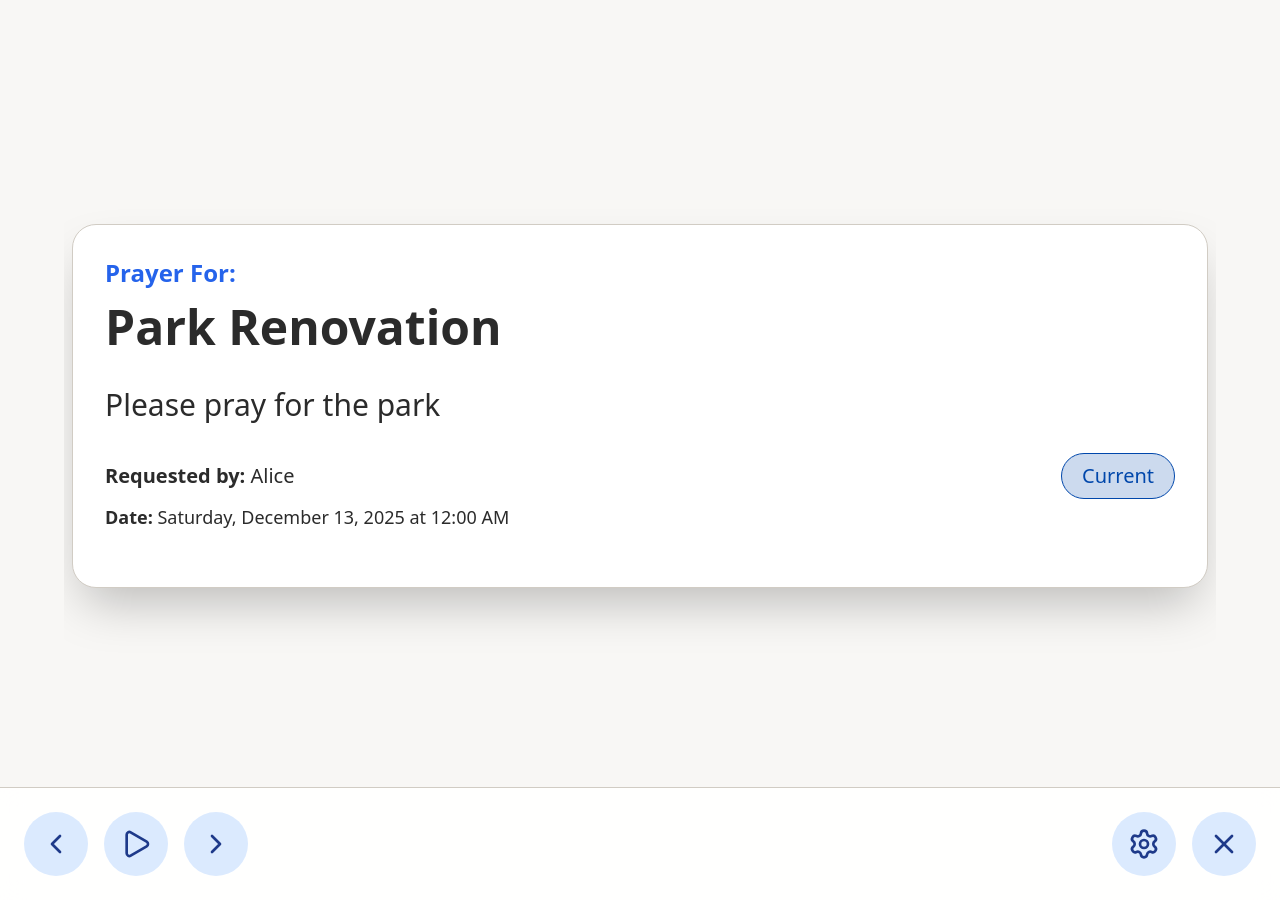
Test: PrayerPresentation › Navigation › wraps around to first prayer when reaching the end
Expected: the text "Park Renovation" is shown, [105,294,502,359]
Go to next prayer (should wrap around)
Click the button titled "Next Prayer" at (216, 844), box [184,812,248,876]
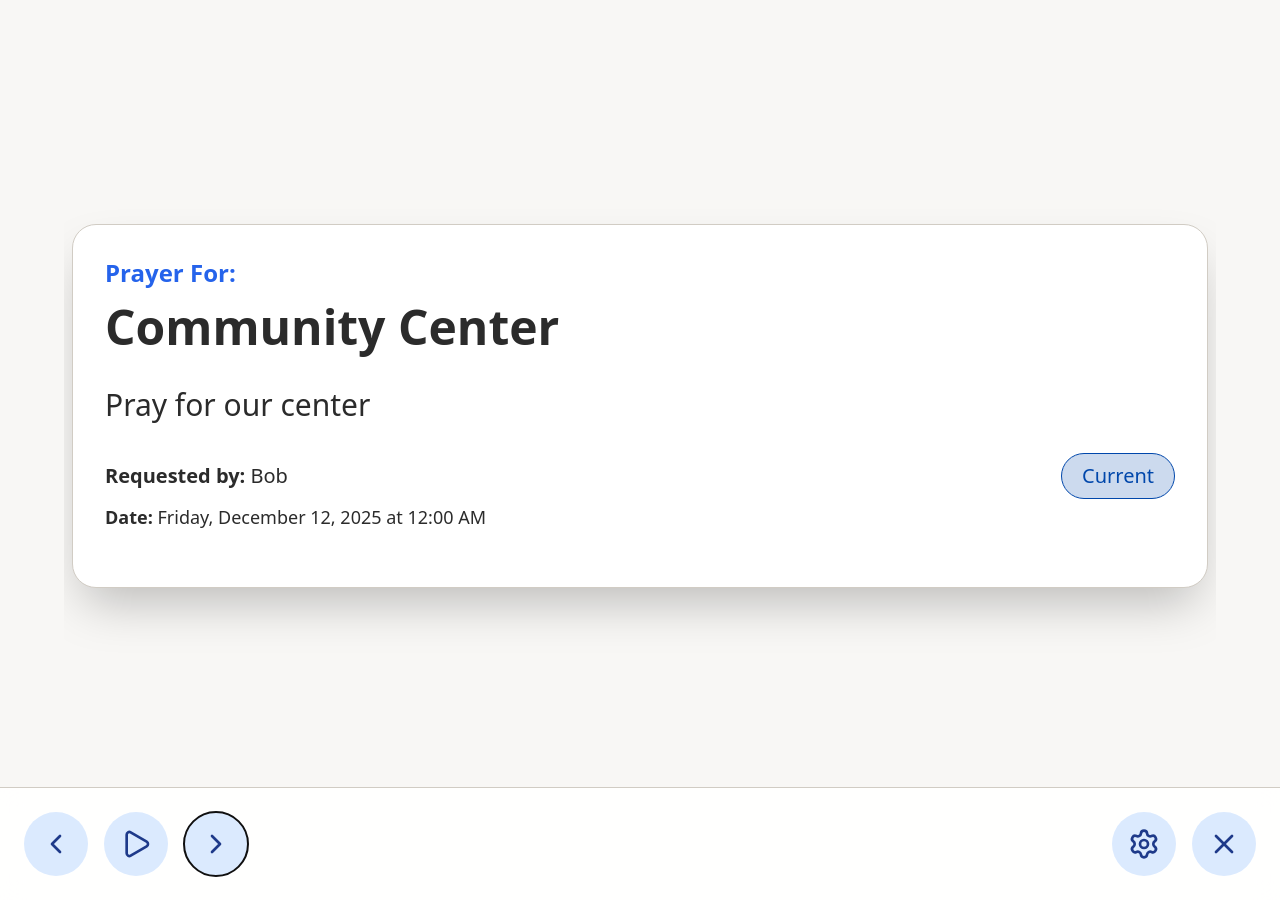
Click the button titled "Next Prayer" at (216, 844), box [184,812,248,876]
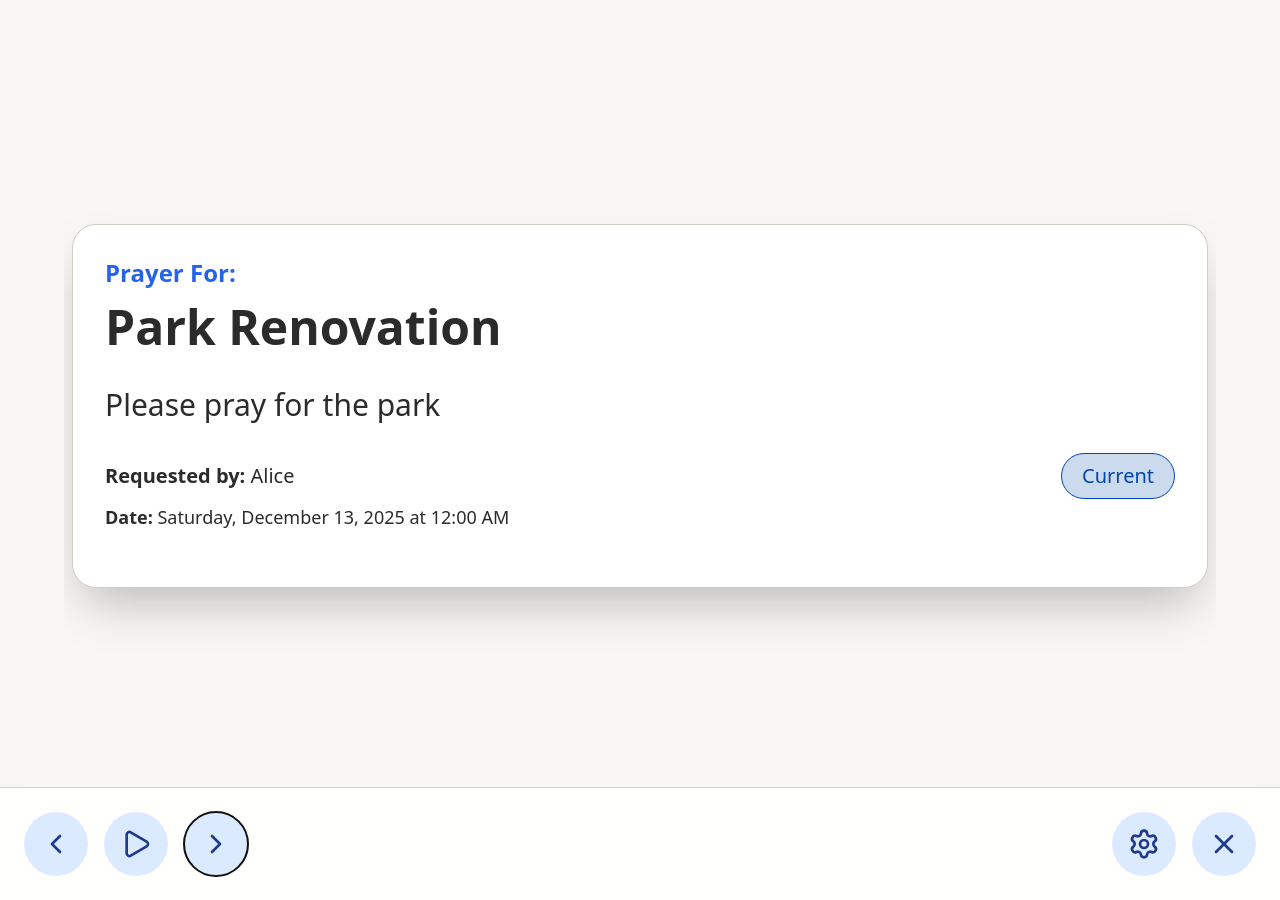
Expected: the text "Park Renovation" is shown, [105,294,502,359]
